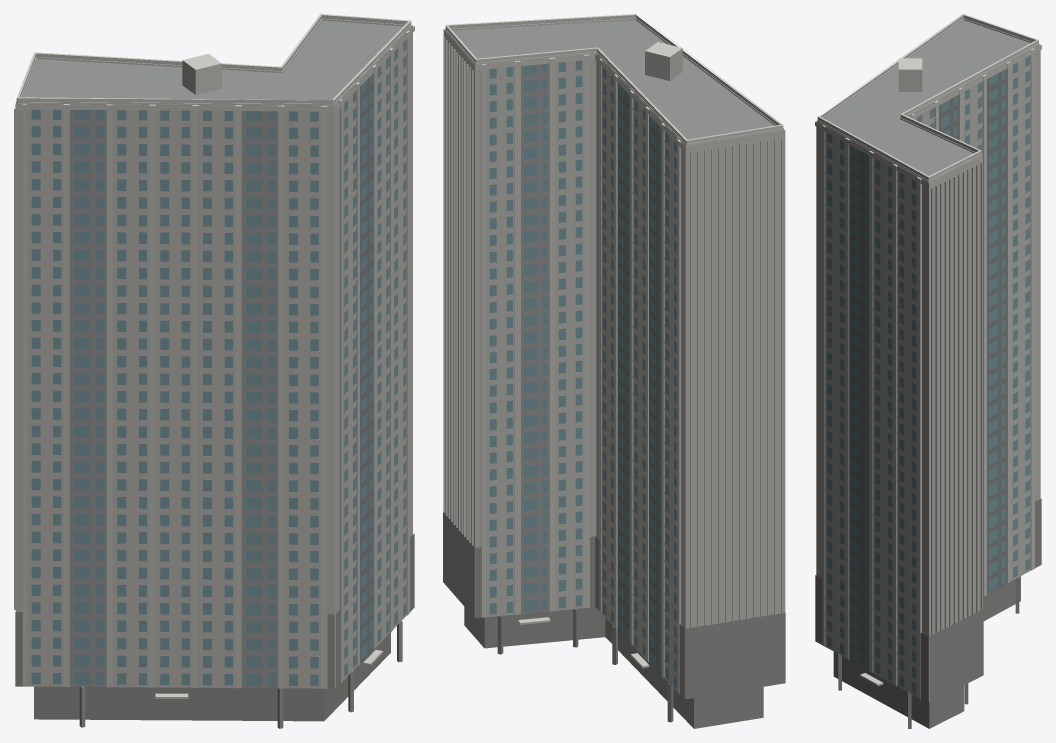
The model's file is maple-xi-106.glb.
3 renders of one model, left to right at view 1: azimuth 30°, elevation 25°; view 2: azimuth 150°, elevation 25°; view 3: azimuth 270°, elevation 25°, orthographic. The views are drawn at different scales.
Parts seen in each view (by area): view 1: maple-xi-106; view 2: maple-xi-106; view 3: maple-xi-106.
Boxes of the visible parts, x1=… form: maple-xi-106: x1=14, y1=14, x2=414, y2=728; maple-xi-106: x1=443, y1=14, x2=785, y2=728; maple-xi-106: x1=815, y1=14, x2=1041, y2=728.
Bounding box in the file's own units: 69.53 × 113 × 40.21.
